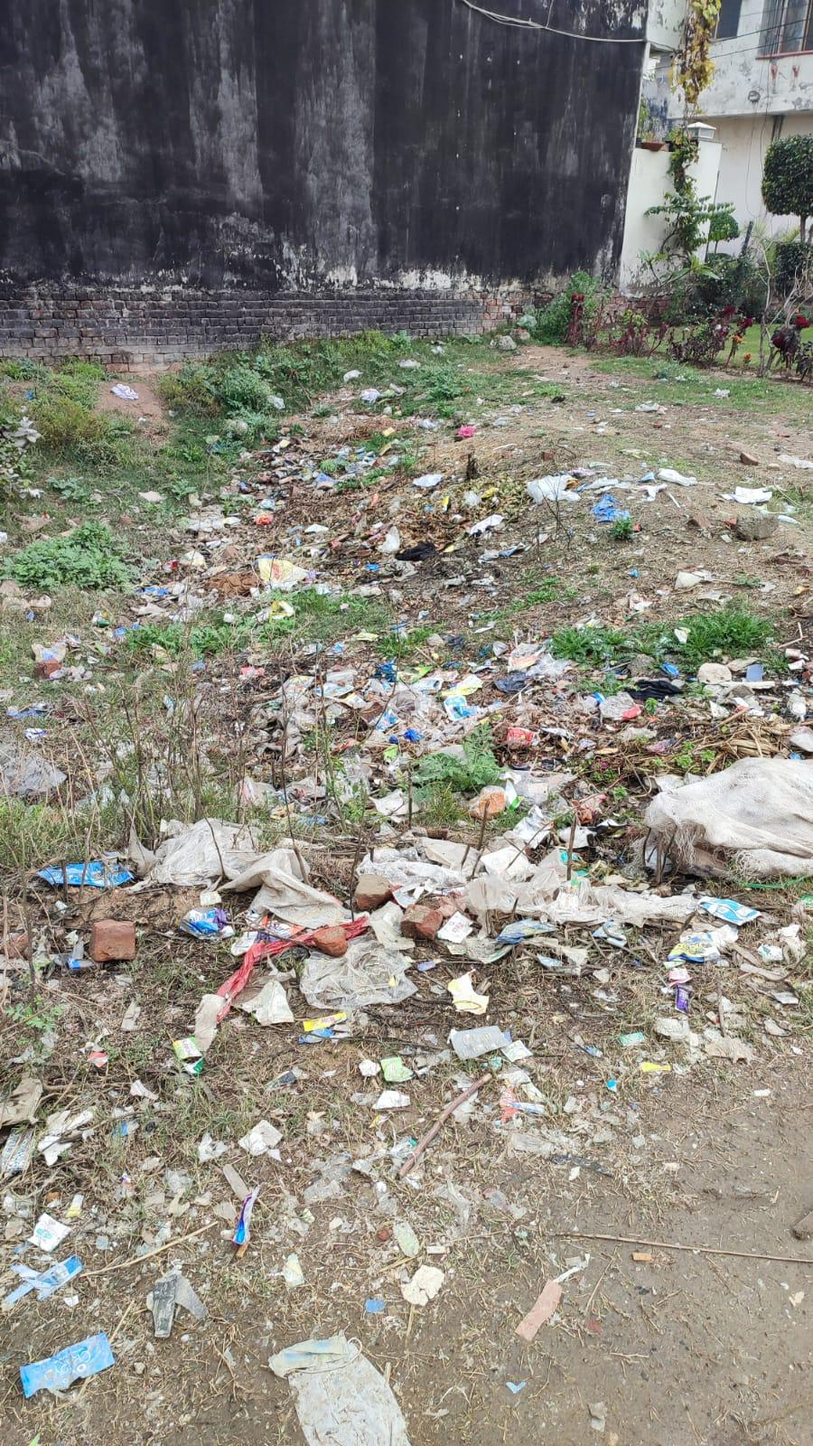garbage: (185, 386, 810, 1160)
